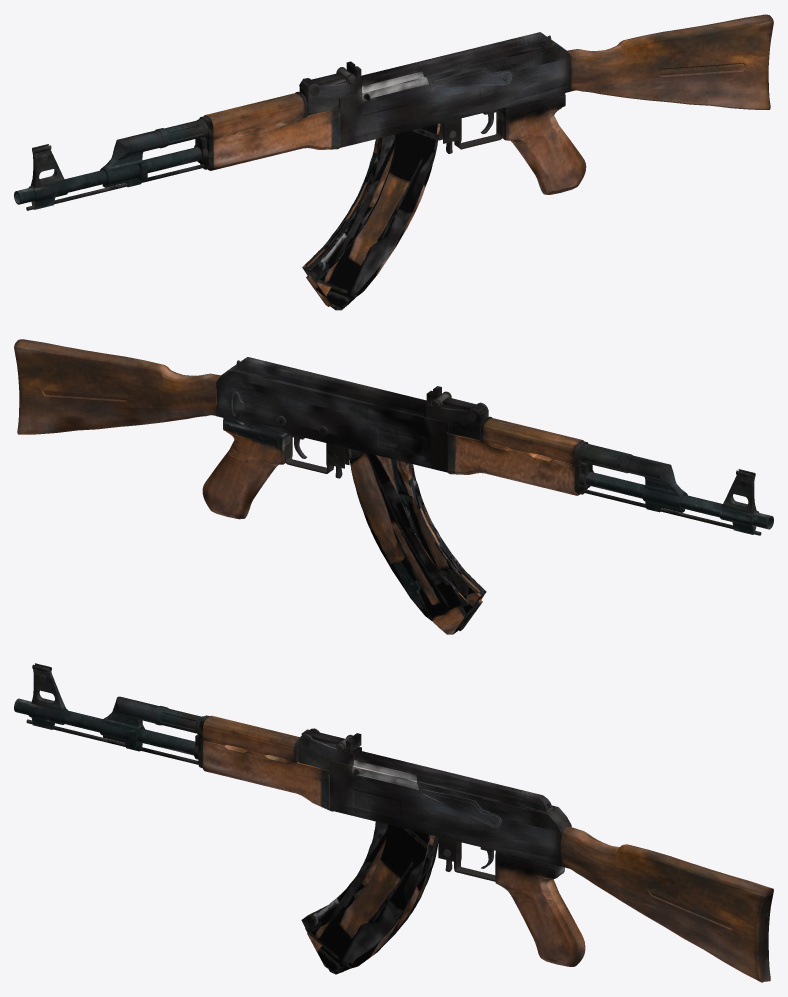
3 renders of one model, top to bottom at view 1: azimuth 30°, elevation 25°; view 2: azimuth 150°, elevation 25°; view 3: azimuth 330°, elevation 25°, orthographic.
Parts seen in each view (by area): view 1: AK_47_2, Round_2; view 2: AK_47_2, Round_2; view 3: AK_47_2, Round_2.
Boxes of the visible parts, x1,y1,x2,y2 form: AK_47_2: (14, 14, 773, 210); Round_2: (302, 123, 440, 310); AK_47_2: (14, 339, 773, 535); Round_2: (348, 448, 486, 634); AK_47_2: (14, 663, 773, 982); Round_2: (301, 821, 438, 974).
Bounding box in the file's own units: 390 × 118 × 13.19.
Materials: 1 (1 with a texture image).
